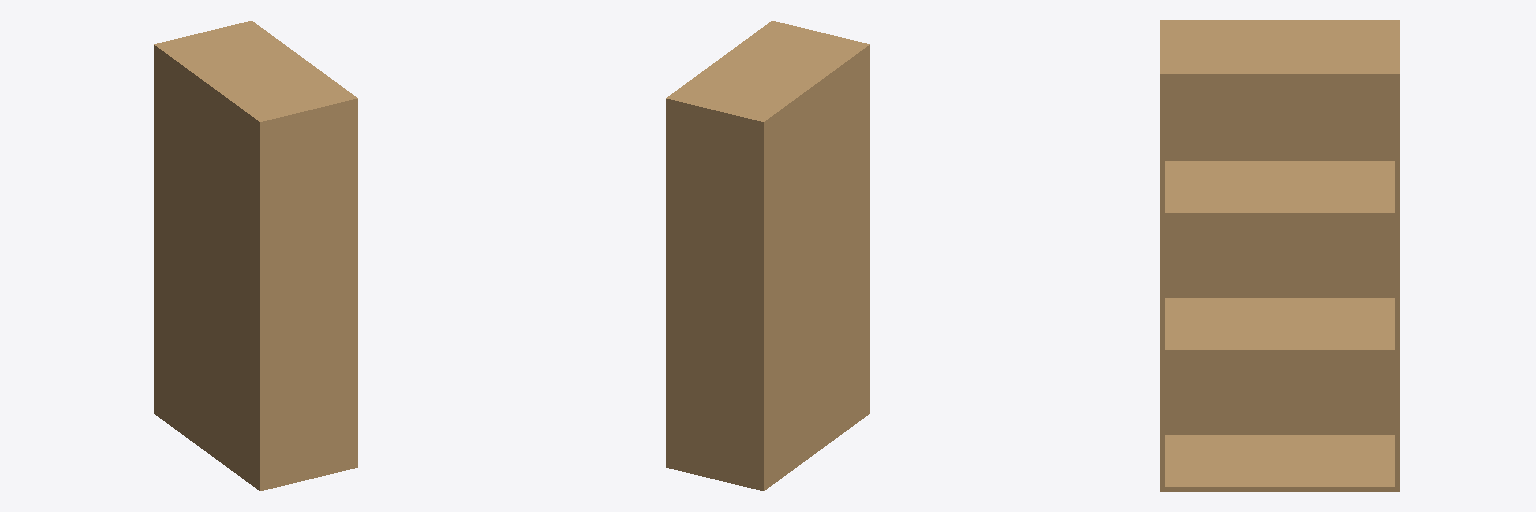
The robot description file, URDF, robot "room73a3-shelf-0":
<?xml version="1.0"?>
<robot name="room73a3-shelf-0"
       xmlns:xi="http://www.w3.org/2001/XInclude"
       xmlns:gazebo="http://playerstage.sourceforge.net/gazebo/xmlschema/#gz"
       xmlns:model="http://playerstage.sourceforge.net/gazebo/xmlschema/#model"
       xmlns:sensor="http://playerstage.sourceforge.net/gazebo/xmlschema/#sensor"
       xmlns:body="http://playerstage.sourceforge.net/gazebo/xmlschema/#body"
       xmlns:geom="http://playerstage.sourceforge.net/gazebo/xmlschema/#geom"
       xmlns:joint="http://playerstage.sourceforge.net/gazebo/xmlschema/#joint"
       xmlns:interface="http://playerstage.sourceforge.net/gazebo/xmlschema/#interface"
       xmlns:rendering="http://playerstage.sourceforge.net/gazebo/xmlschema/#rendering"
       xmlns:renderable="http://playerstage.sourceforge.net/gazebo/xmlschema/#renderable"
       xmlns:controller="http://playerstage.sourceforge.net/gazebo/xmlschema/#controller"
       xmlns:physics="http://playerstage.sourceforge.net/gazebo/xmlschema/#physics">
  <gazebo>
    <static>false</static>
  </gazebo>
  <link name="nil_link">
    <visual>
      <origin xyz="0 0 0" rpy="0 -0 0"/>
      <geometry>
        <mesh filename="model://room73a3-shelf-0/meshes/nil_link_mesh.dae" scale="1 1 1" />
      </geometry>
    </visual>
    <collision>
      <origin xyz="0 0 0" rpy="0 -0 0"/>
      <geometry>
        <mesh filename="model://room73a3-shelf-0/meshes/nil_link_mesh.dae" scale="1 1 1" />
      </geometry>
    </collision>
    <inertial>
      <mass value="0.001" />
      <origin xyz="0 0 0" rpy="0 -0 0"/>
      <inertia ixx="1e-09" ixy="0" ixz="0" iyy="1e-09" iyz="0" izz="1e-09"/>
    </inertial>
  </link>
  <gazebo reference="nil_link">
    <mu1>0.9</mu1>
    <mu2>0.9</mu2>
  </gazebo>
</robot>

--- Render facts (derived) ---
Views: 3 orthographic renders of the robot side by side, from view 1: azimuth 30°, elevation 25°; view 2: azimuth 150°, elevation 25°; view 3: azimuth 270°, elevation 25°.
Model room73a3-shelf-0 with 1 links and 0 joints (none), rooted at nil_link, posed every joint at zero.
Links seen in each view (by area): view 1: nil_link; view 2: nil_link; view 3: nil_link.
Boxes of the visible links, <box> form: nil_link: <box>154,21,357,490</box>; nil_link: <box>666,21,869,490</box>; nil_link: <box>1160,20,1399,491</box>.
Bounding box of the posed robot: 0.25 × 0.47 × 0.9 m (x, y, z).
Meshes: 1 distinct files referenced, 1 mesh visuals loaded (1 Collada DAE).
